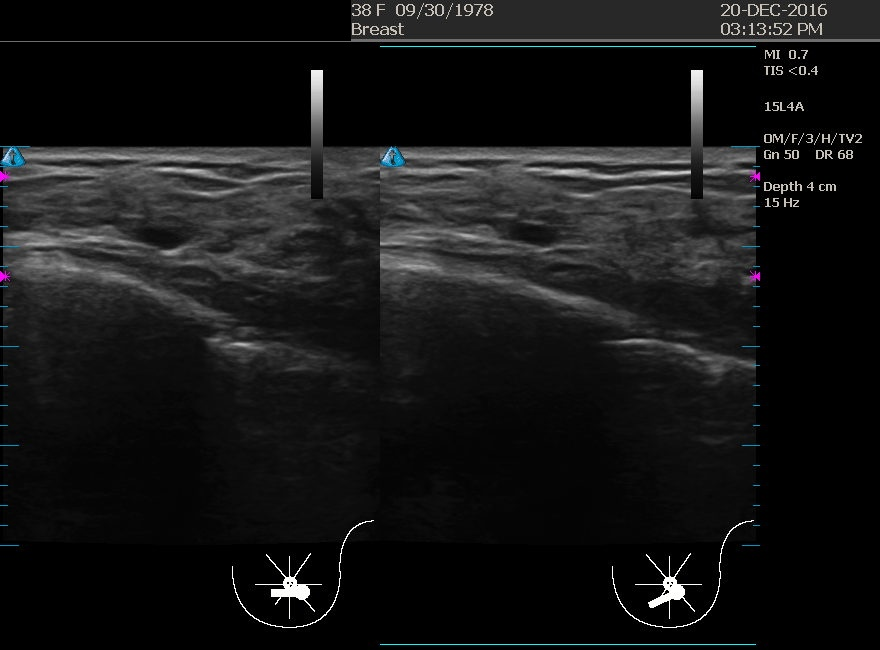BIRADS_2: (27, 150, 228, 351), (488, 151, 688, 351)
